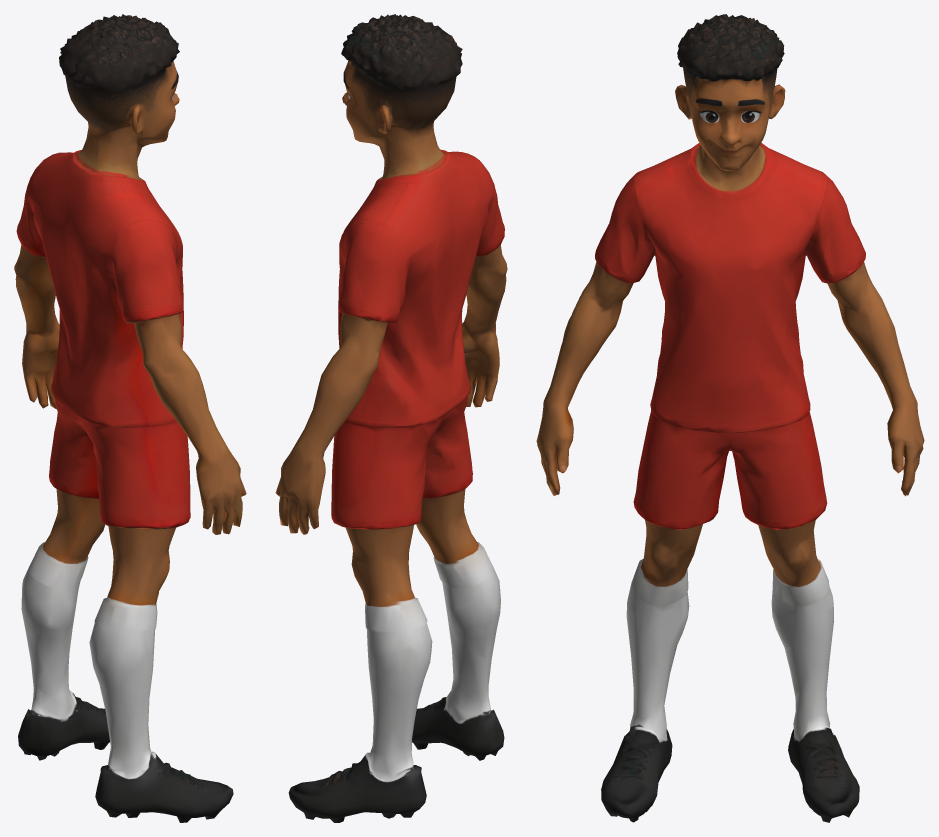
Rendered from gen.glb.
The picture shows the model from 3 angles, left to right: view 1: azimuth 30°, elevation 25°; view 2: azimuth 150°, elevation 25°; view 3: azimuth 270°, elevation 25°; orthographic projection. The views are drawn at different scales.
Parts seen in each view (by area): view 1: tripo_node_3f77aae1-7e85-47f9-ba7f-e46b6fe79daf; view 2: tripo_node_3f77aae1-7e85-47f9-ba7f-e46b6fe79daf; view 3: tripo_node_3f77aae1-7e85-47f9-ba7f-e46b6fe79daf.
Part boxes in pixels (x1,y1,x2,y2): tripo_node_3f77aae1-7e85-47f9-ba7f-e46b6fe79daf: [14, 14, 246, 822]; tripo_node_3f77aae1-7e85-47f9-ba7f-e46b6fe79daf: [275, 14, 507, 822]; tripo_node_3f77aae1-7e85-47f9-ba7f-e46b6fe79daf: [536, 14, 924, 822].
Bounding box in the file's own units: 0.1676 × 1 × 0.451.
1 material, 1 textured.
